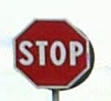stop: (14, 17, 92, 89)
